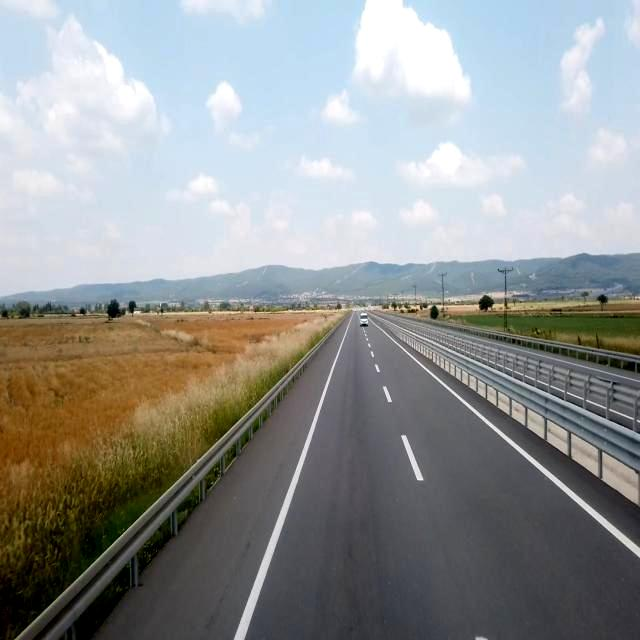lane: (381, 331, 640, 558), (234, 318, 352, 640), (402, 435, 424, 481), (383, 386, 392, 402)
road: (92, 313, 639, 639)
